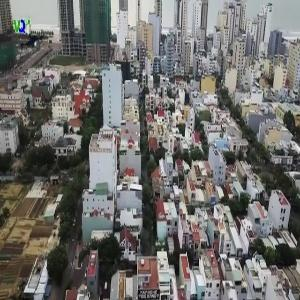drone: (15, 19, 51, 55)
